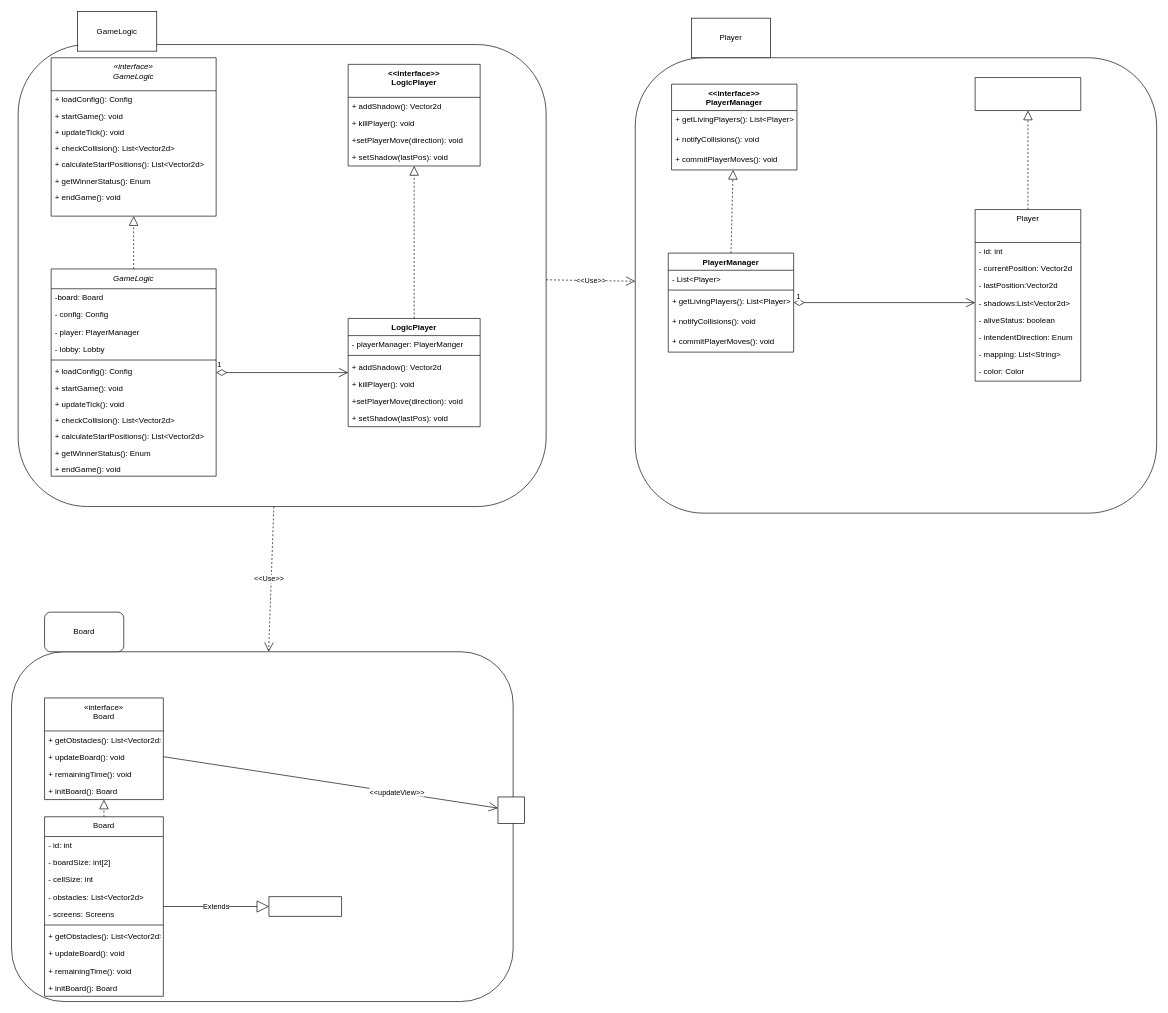
The diagram is 1168 pixels wide and 1013 high, and some of its shapes have lost their labels. Each missing label, with the centre of its shape:
"Observable" goes at [305,906].
"View" goes at [510,809].
"«interface» Player" goes at [1027,94].
